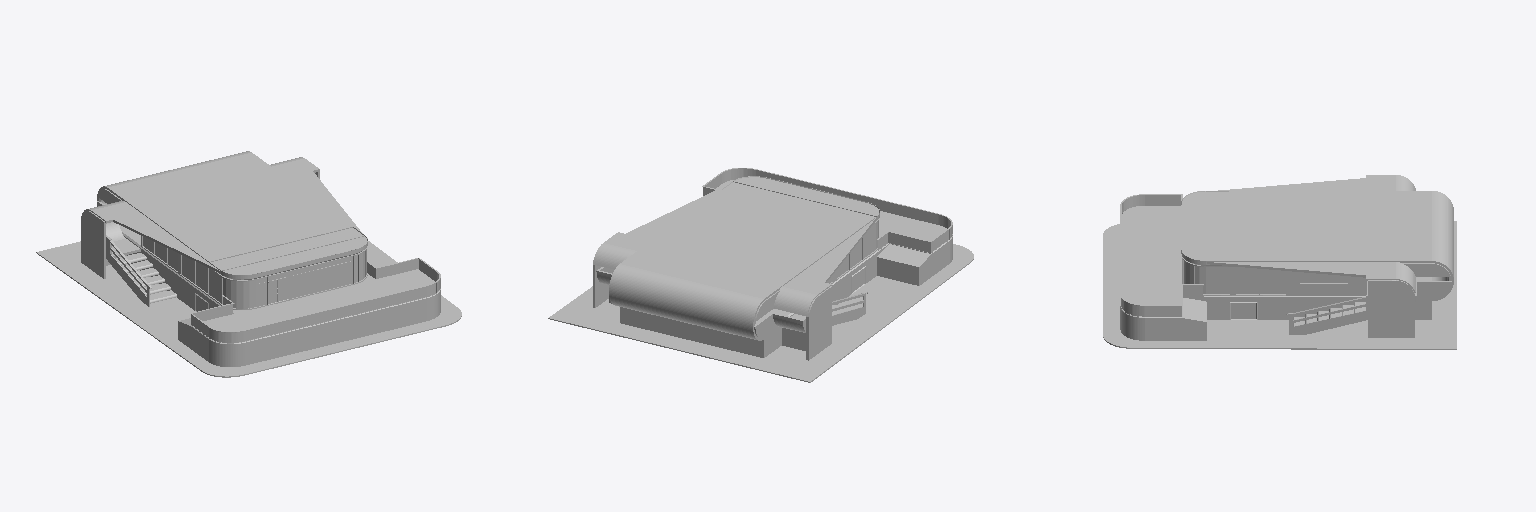
The model's file is Futuristic Apartment.obj.
3 views of the same model, side by side, from view 1: azimuth 30°, elevation 25°; view 2: azimuth 150°, elevation 25°; view 3: azimuth 270°, elevation 25° (orthographic).
Visible parts, largest first — view 1: Walls_outside_Plane.036, FLoor_white_Plane.024, Glas_Cube.003, Tiles_outside_1_Plane.035, Metal_1_Plane.033, Cube.009_Cube.001; view 2: Walls_outside_Plane.036, FLoor_white_Plane.024, Glas_Cube.003, Tiles_outside_1_Plane.035, Metal_1_Plane.033; view 3: Walls_outside_Plane.036, FLoor_white_Plane.024, Glas_Cube.003, Tiles_outside_1_Plane.035, Metal_1_Plane.033.
Boxes of the visible parts, <box> form: Walls_outside_Plane.036: <box>81,151,440,366</box>; FLoor_white_Plane.024: <box>36,157,461,377</box>; Glas_Cube.003: <box>143,228,439,342</box>; Tiles_outside_1_Plane.035: <box>203,269,434,331</box>; Metal_1_Plane.033: <box>97,186,440,342</box>; Cube.009_Cube.001: <box>267,277,289,305</box>; Walls_outside_Plane.036: <box>593,176,952,360</box>; FLoor_white_Plane.024: <box>548,168,973,382</box>; Glas_Cube.003: <box>703,169,951,283</box>; Tiles_outside_1_Plane.035: <box>716,180,946,240</box>; Metal_1_Plane.033: <box>722,169,952,340</box>; Walls_outside_Plane.036: <box>1120,191,1453,340</box>; FLoor_white_Plane.024: <box>1103,175,1456,349</box>; Glas_Cube.003: <box>1121,192,1347,316</box>; Tiles_outside_1_Plane.035: <box>1122,206,1181,304</box>; Metal_1_Plane.033: <box>1132,191,1453,319</box>.
Bounding box in the file's own units: 24.77 × 5.46 × 29.03.